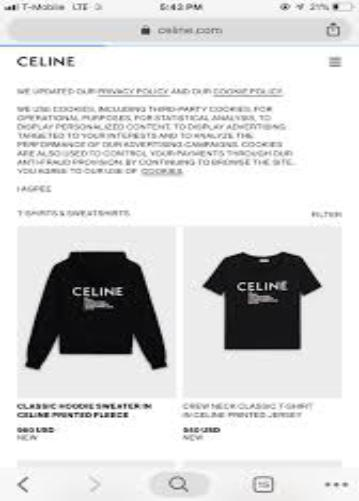CELINE: (17, 43, 79, 78)
